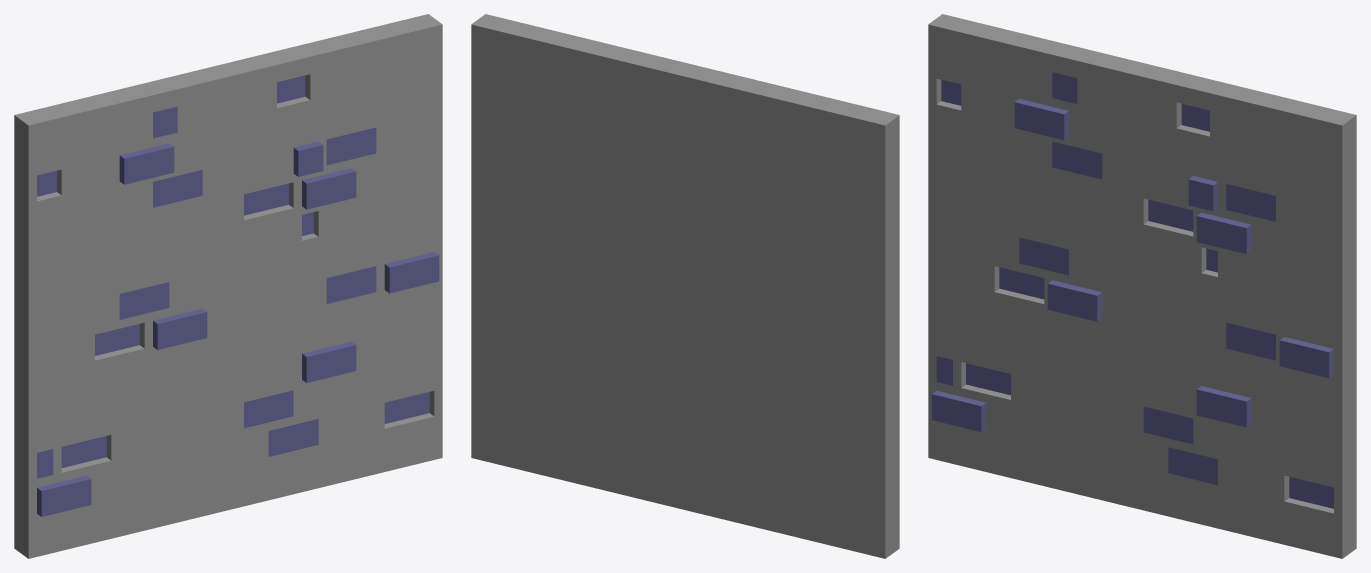
The model's file is WallTile.obj.
3 renders of one model, left to right at view 1: azimuth 30°, elevation 25°; view 2: azimuth 150°, elevation 25°; view 3: azimuth 330°, elevation 25°, orthographic.
Size of the model in its own units: 50 by 50 by 4.
1 material, 1 textured.
